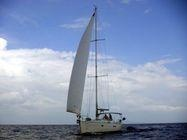fanchuan: (64, 5, 130, 134)
